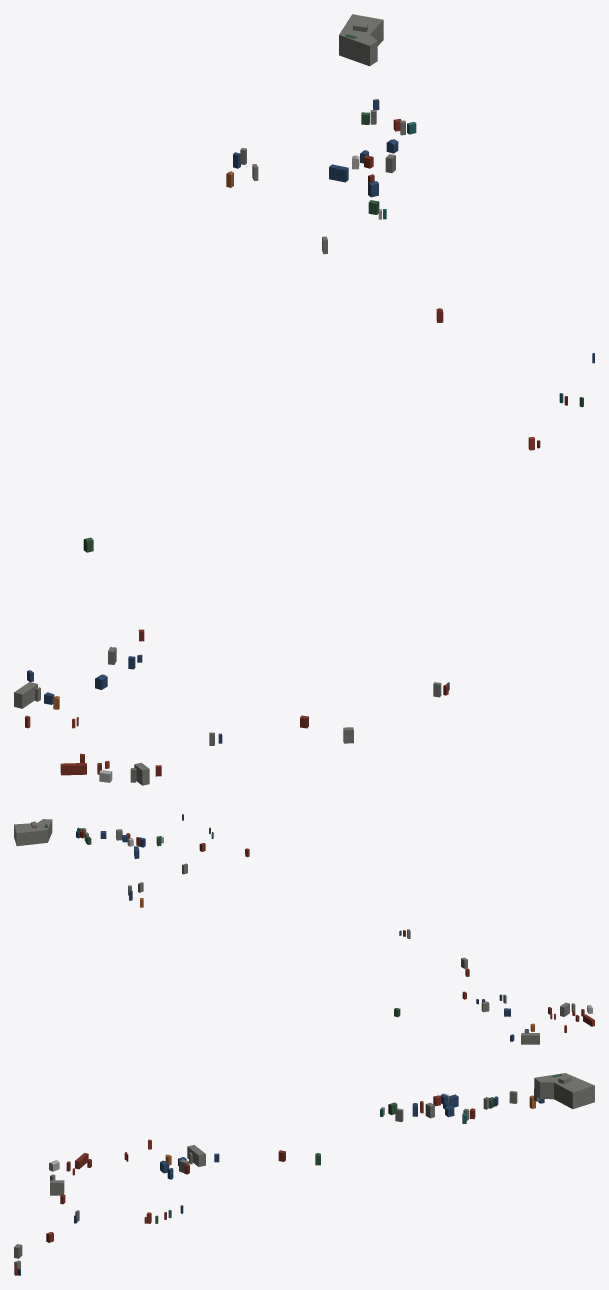
The model's file is near-15-27354-14866.e3bf0ff3.glb.
3 renders of one model, top to bottom at view 1: azimuth 30°, elevation 25°; view 2: azimuth 150°, elevation 25°; view 3: azimuth 270°, elevation 25°, orthographic. The views are drawn at different scales.
Size of the model in its own units: 1218 by 753 by 1206.
